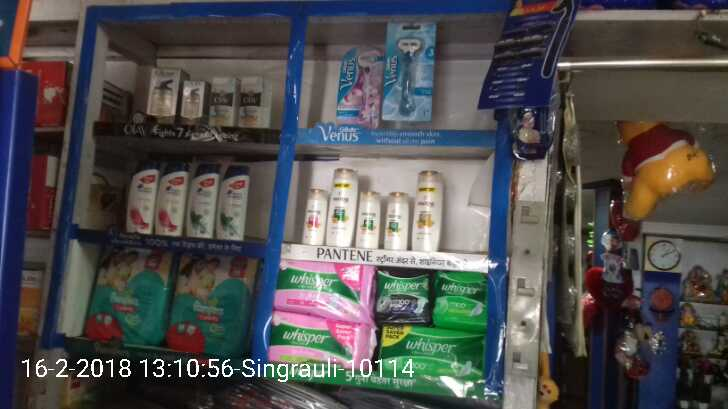gillete: (484, 1, 574, 105)
venus: (383, 19, 436, 122), (340, 46, 378, 130)
